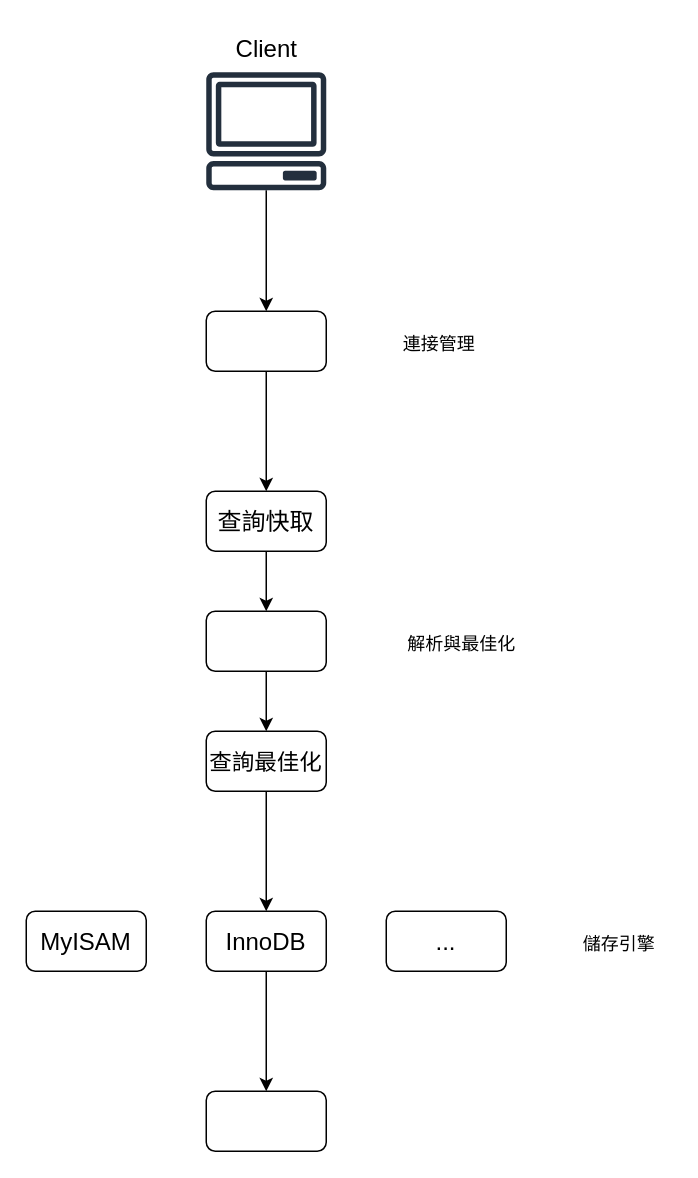
Some shapes in this 698 by 1178 pixel diagram are drawn without their labels. Here are the shapes that lost their labels. From the top down, the centre of each, then its label:
At (265,340): "處理連接".
At (265,640): "語法解析".
At (265,1120): "檔案系統".
